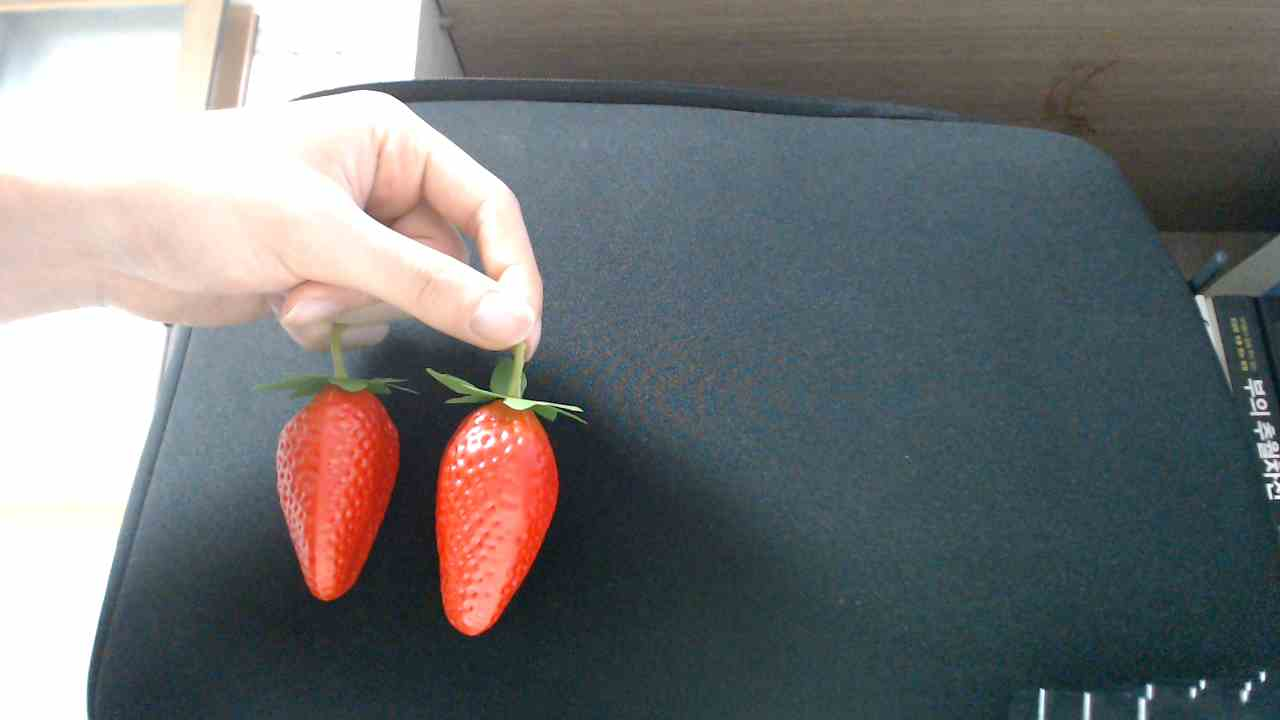strawberry: (437, 379, 574, 646), (254, 379, 402, 609)
